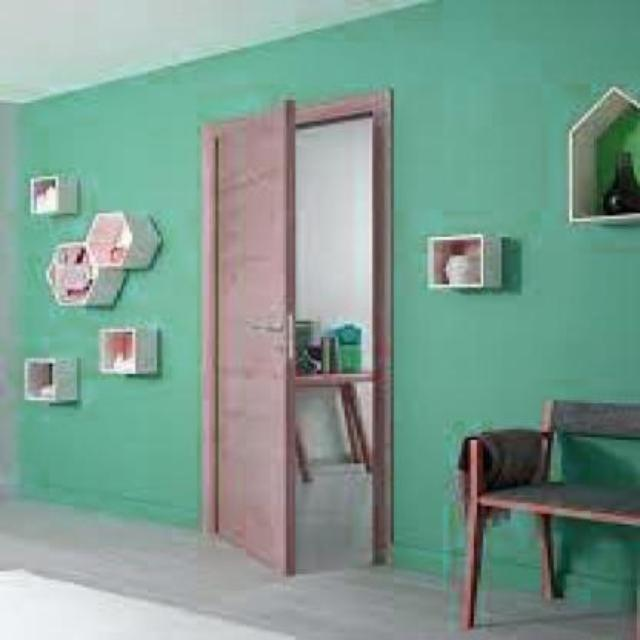door: (210, 97, 306, 579)
